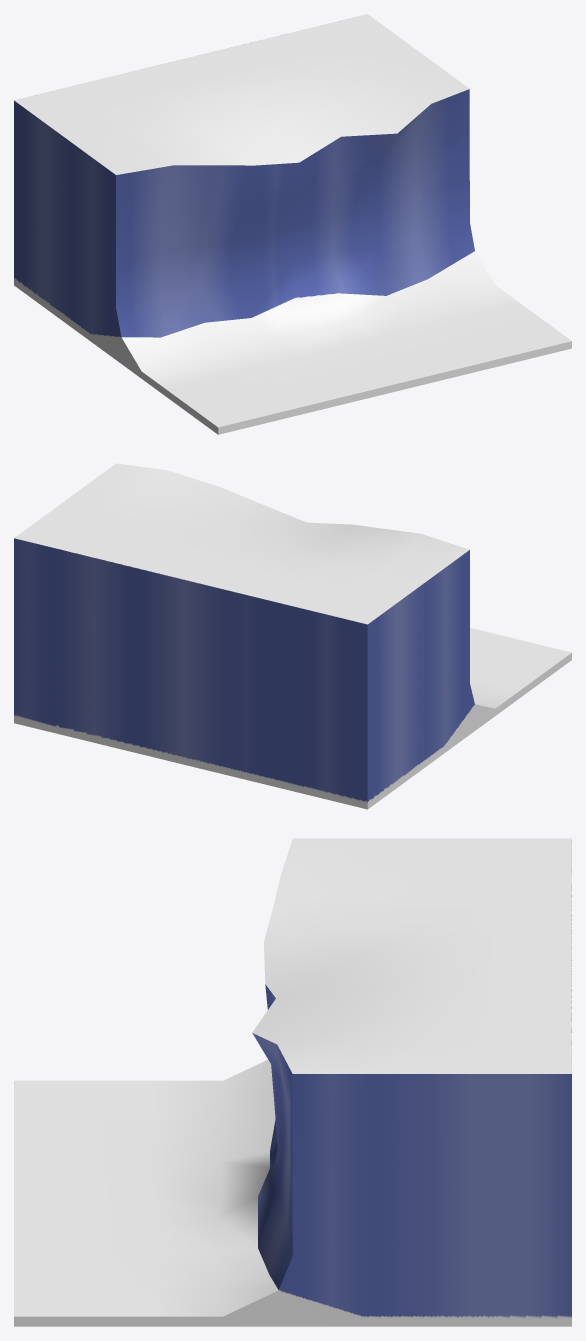
The model's file is wall_straight_2_1.glb.
The picture shows the model from 3 angles, top to bottom: view 1: azimuth 30°, elevation 25°; view 2: azimuth 150°, elevation 25°; view 3: azimuth 270°, elevation 25°; orthographic projection. The views are drawn at different scales.
Parts seen in each view (by area): view 1: wall_straight_2.001; view 2: wall_straight_2.001; view 3: wall_straight_2.001.
Boxes of the visible parts, box(x1,y1,x2,y2) form: wall_straight_2.001: box(14, 14, 571, 434); wall_straight_2.001: box(14, 463, 571, 809); wall_straight_2.001: box(14, 838, 571, 1326).
Size of the model in its own units: 2 by 1 by 2.
Materials: 1 (1 with a texture image).
